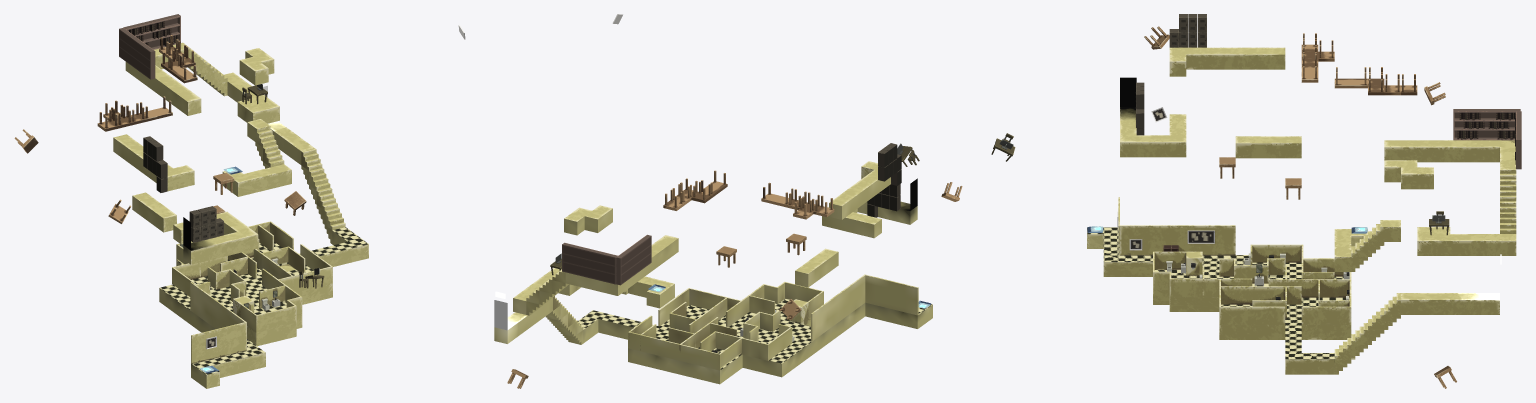
File: Level3_Static_MORE.fbx
3 views of the same model, side by side, from view 1: azimuth 30°, elevation 25°; view 2: azimuth 150°, elevation 25°; view 3: azimuth 270°, elevation 25° (orthographic). The views are drawn at different scales.
Parts seen in each view (by area): view 1: Level3_ForSP:BigStaticPiece, Level3_ForSP:pCube94, Level3_ForSP:Bookshelf2, Level3_ForSP:pCube96, Level3_ForSP:pCube95, Level3_ForSP:Bookshelf; view 2: Level3_ForSP:BigStaticPiece, Level3_ForSP:Bookshelf, Level3_ForSP:pCube94, Level3_ForSP:pCube96, Level3_ForSP:Bookshelf2, Level3_ForSP:pCube95; view 3: Level3_ForSP:BigStaticPiece, Level3_ForSP:pCube95, Level3_ForSP:Bookshelf2, Level3_ForSP:pCube96, Level3_ForSP:pCube94, Level3_ForSP:Entrance.
Part boxes in pixels (left/top/right/bottom): Level3_ForSP:BigStaticPiece: left=113, top=42, right=368, bottom=388; Level3_ForSP:pCube94: left=97, top=96, right=172, bottom=131; Level3_ForSP:Bookshelf2: left=119, top=27, right=155, bottom=79; Level3_ForSP:pCube96: left=14, top=129, right=306, bottom=223; Level3_ForSP:pCube95: left=159, top=35, right=197, bottom=83; Level3_ForSP:Bookshelf: left=123, top=14, right=180, bottom=49; Level3_ForSP:BigStaticPiece: left=494, top=161, right=932, bottom=384; Level3_ForSP:Bookshelf: left=562, top=242, right=617, bottom=284; Level3_ForSP:pCube94: left=761, top=182, right=834, bottom=219; Level3_ForSP:pCube96: left=507, top=182, right=962, bottom=388; Level3_ForSP:Bookshelf2: left=616, top=234, right=651, bottom=285; Level3_ForSP:pCube95: left=663, top=170, right=727, bottom=210; Level3_ForSP:BigStaticPiece: left=1087, top=47, right=1516, bottom=374; Level3_ForSP:pCube95: left=1334, top=67, right=1417, bottom=95; Level3_ForSP:Bookshelf2: left=1453, top=109, right=1520, bottom=140; Level3_ForSP:pCube96: left=1144, top=26, right=1456, bottom=388; Level3_ForSP:pCube94: left=1301, top=33, right=1334, bottom=82; Level3_ForSP:Entrance: left=1120, top=77, right=1136, bottom=107.
Bounding box in the file's own units: 26.28 × 19.89 × 32.11.
18 materials, 16 textured.
